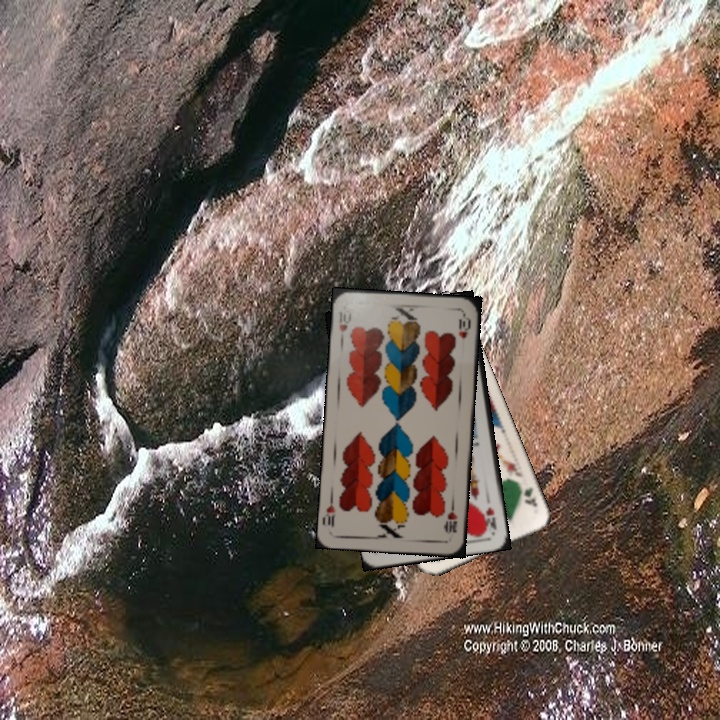GK: (520, 483, 540, 509)
H10: (335, 305, 354, 344), (441, 499, 460, 536)
HK: (482, 503, 499, 535)
